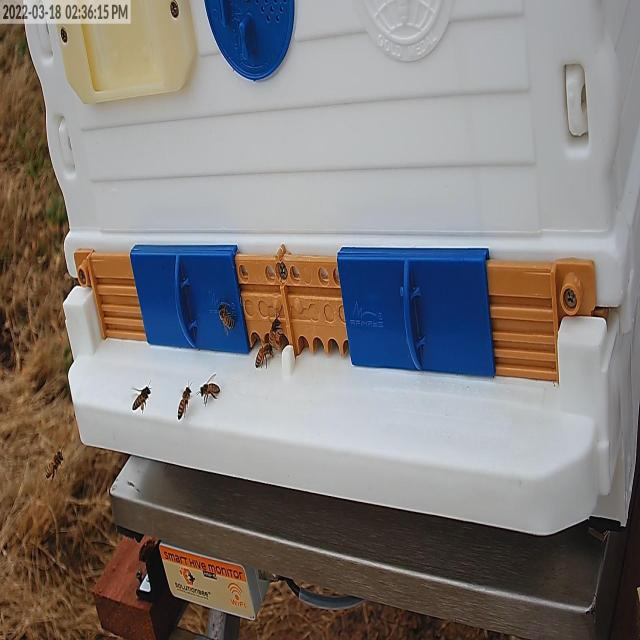honeybee: (125, 381, 152, 416), (217, 303, 238, 337), (176, 383, 190, 422), (200, 380, 223, 402), (256, 343, 273, 370), (267, 319, 282, 344)
